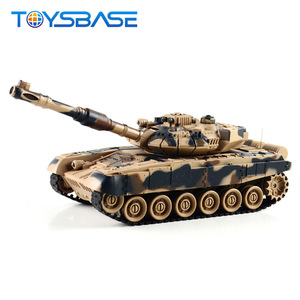Battle Tank: (7, 79, 300, 230)
